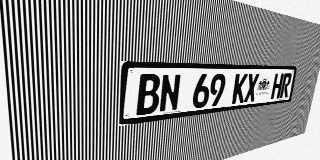6: (192, 74, 212, 109)
9: (208, 74, 226, 107)
B: (136, 74, 161, 116)
H: (270, 73, 284, 99)
K: (231, 74, 248, 104)
N: (159, 74, 181, 113)
R: (279, 73, 292, 98)
X: (244, 73, 259, 102)
